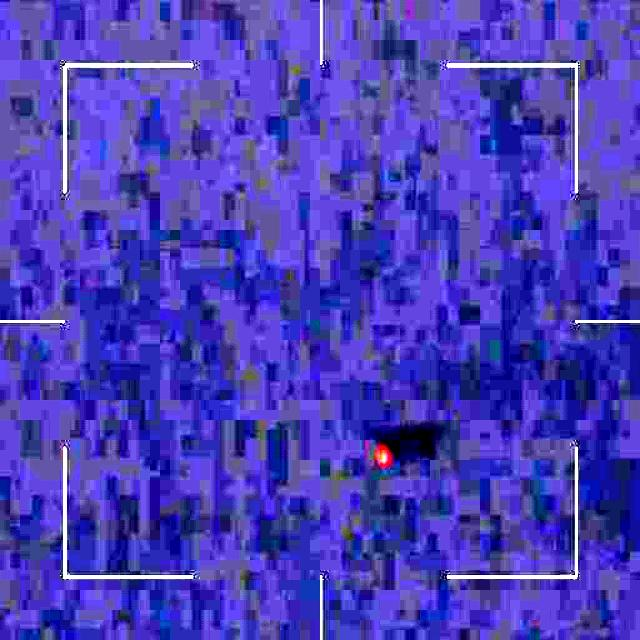bird: (372, 432, 402, 471)
